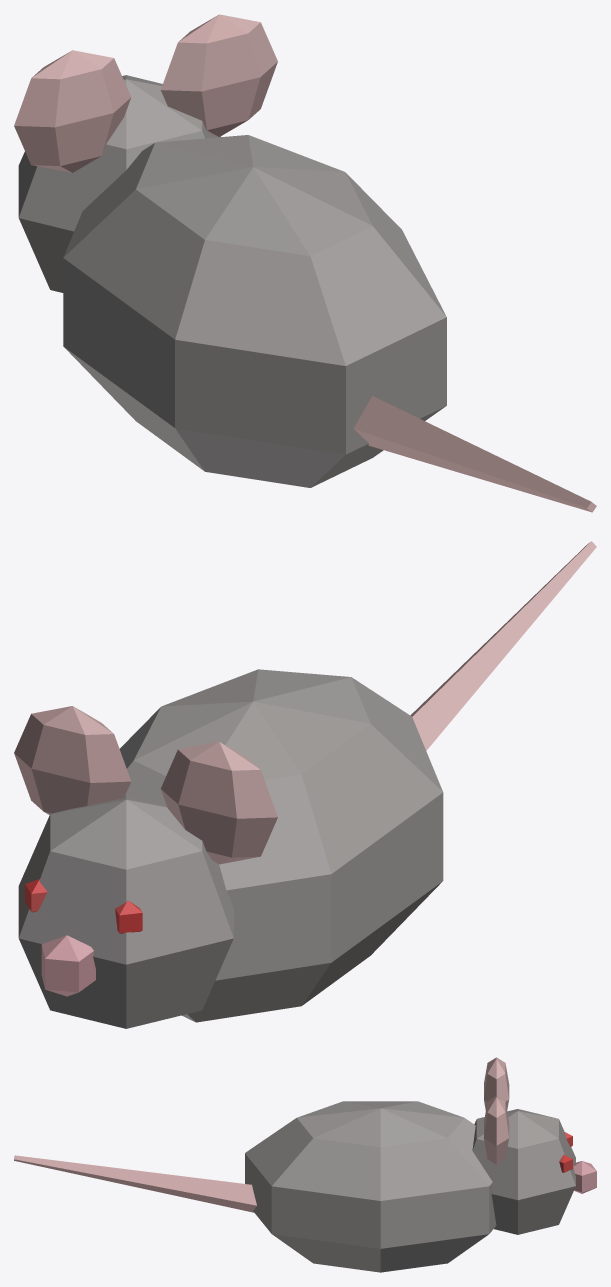
File: rat.glb
3 views of the same model, one above another, from view 1: azimuth 30°, elevation 25°; view 2: azimuth 150°, elevation 25°; view 3: azimuth 270°, elevation 25° (orthographic). The views are drawn at different scales.
Visible parts, largest first — view 1: rat2; view 2: rat2; view 3: rat2.
Boxes of the visible parts, x1=… form: rat2: x1=14, y1=14, x2=596, y2=512; rat2: x1=14, y1=541, x2=596, y2=1028; rat2: x1=14, y1=1057, x2=596, y2=1272.
Size of the model in its own units: 0.5785 by 0.67 by 1.91.
